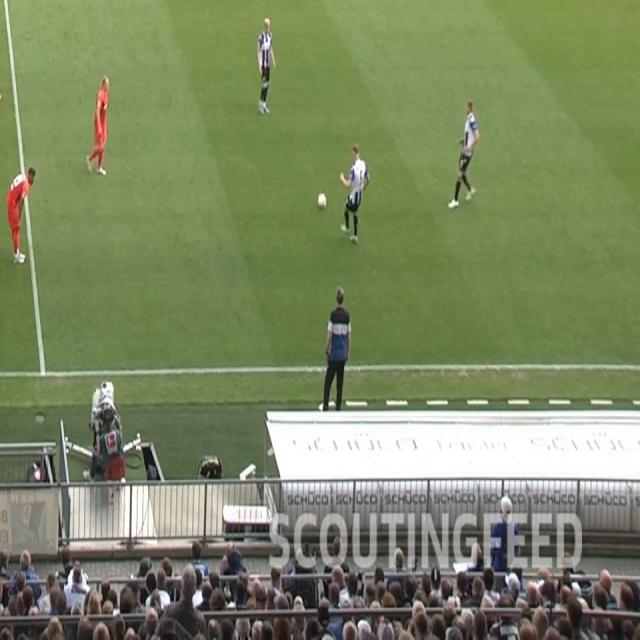ball: (317, 191, 327, 211)
